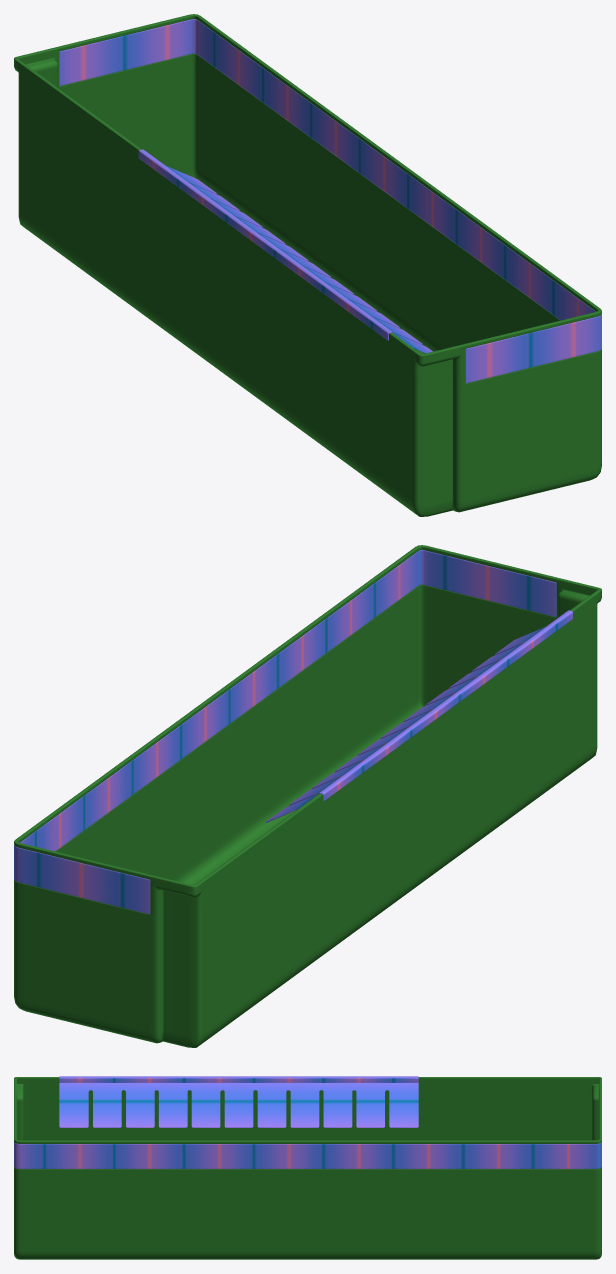
The model's file is SM_Fridge_Door_Tray_01.fbx.
3 views of the same model, one above another, from view 1: azimuth 30°, elevation 25°; view 2: azimuth 150°, elevation 25°; view 3: azimuth 270°, elevation 25° (orthographic). The views are drawn at different scales.
Parts seen in each view (by area): view 1: SM_Fridge_Door_Tray_01; view 2: SM_Fridge_Door_Tray_01; view 3: SM_Fridge_Door_Tray_01.
Boxes of the visible parts, left/top/right/bottom form: SM_Fridge_Door_Tray_01: left=14, top=14, right=601, bottom=516; SM_Fridge_Door_Tray_01: left=14, top=545, right=601, bottom=1047; SM_Fridge_Door_Tray_01: left=14, top=1076, right=601, bottom=1259.
Size of the model in its own units: 11.05 by 9.63 by 42.2.
Materials: 3 (2 with a texture image).
